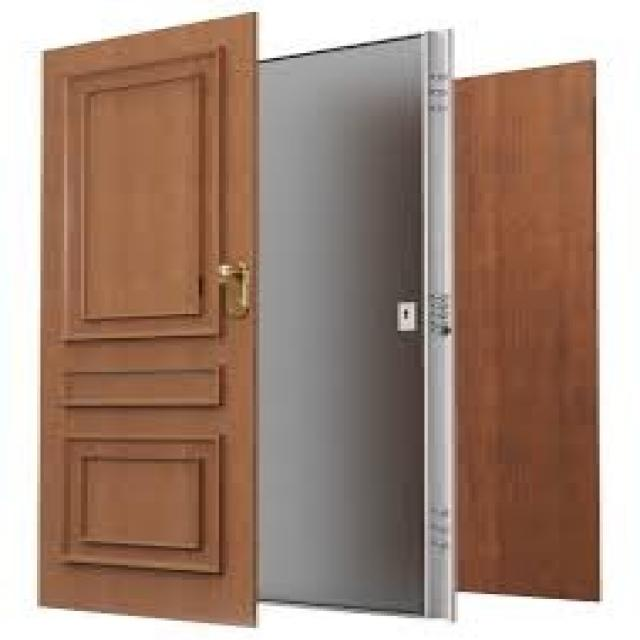door: (37, 11, 259, 627)
